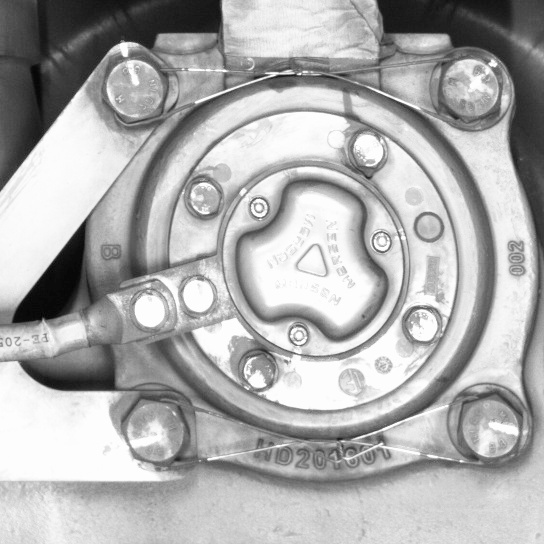IronWire: (112, 384, 533, 476), (95, 48, 515, 133)
Screw: (445, 381, 534, 475), (112, 383, 200, 477), (427, 45, 516, 131), (96, 49, 181, 130)
